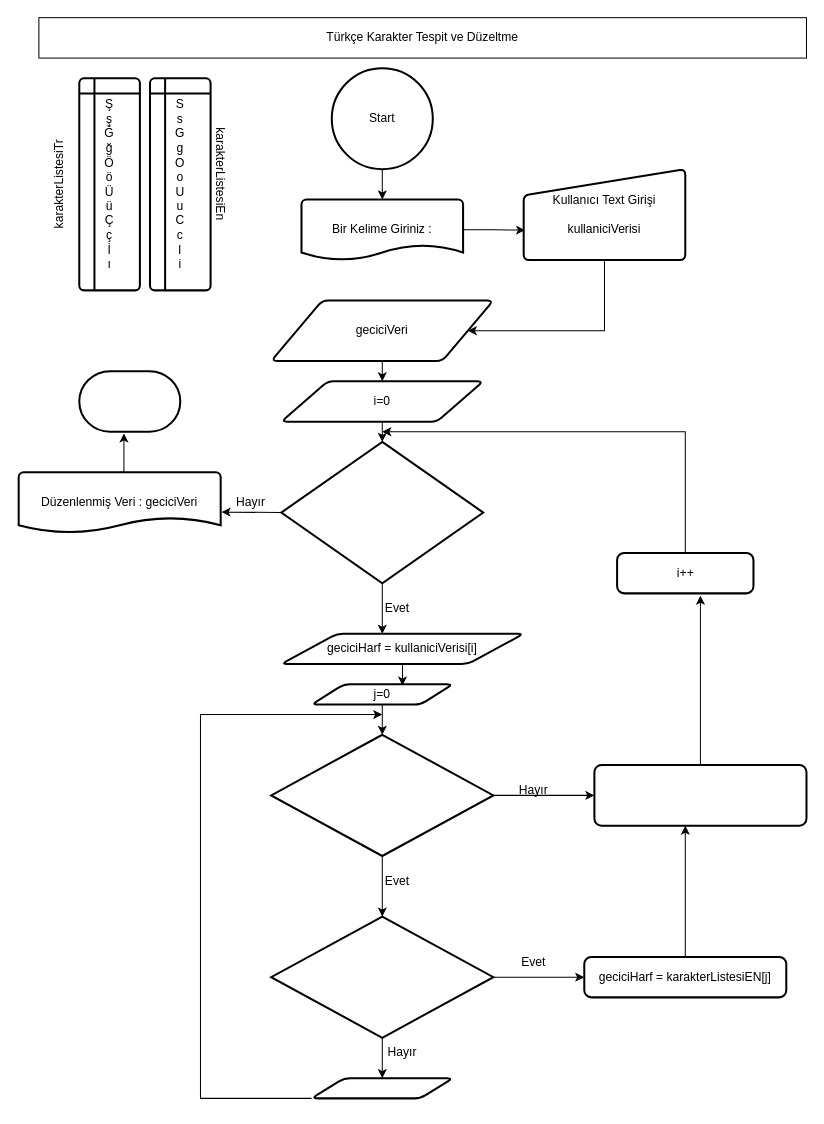
This 824x1124 diagram has some shape labels left out. The centre of each missing label's shape, as x and y in pixels:
"geciciHarf == karakterListesiTR[j]" goes at (382,976).
"geciciVeri += geciciHarf" goes at (700,795).
"i< uzunluk(kullaniciVerisi)" goes at (382,512).
"j < uzunluk(karakterListesiTR)" goes at (382,794).
"j++" goes at (381,1088).
"Stop" goes at (129,401).
